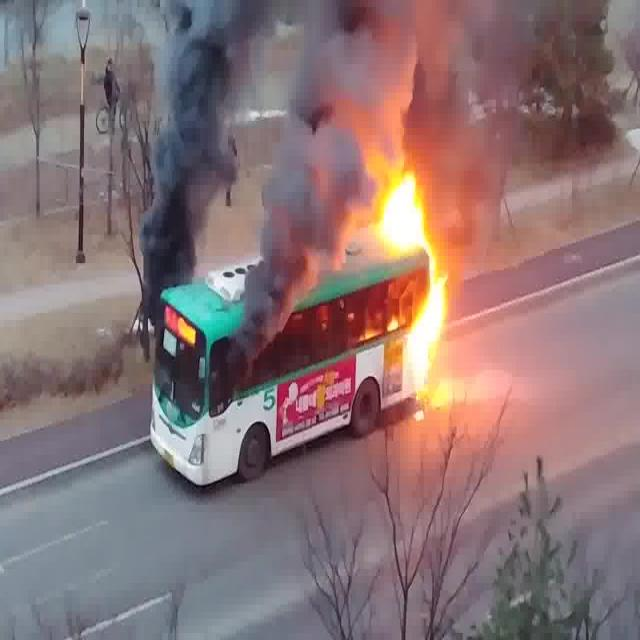fire: (384, 192, 458, 411)
smoke: (231, 0, 410, 398), (135, 0, 226, 372)
